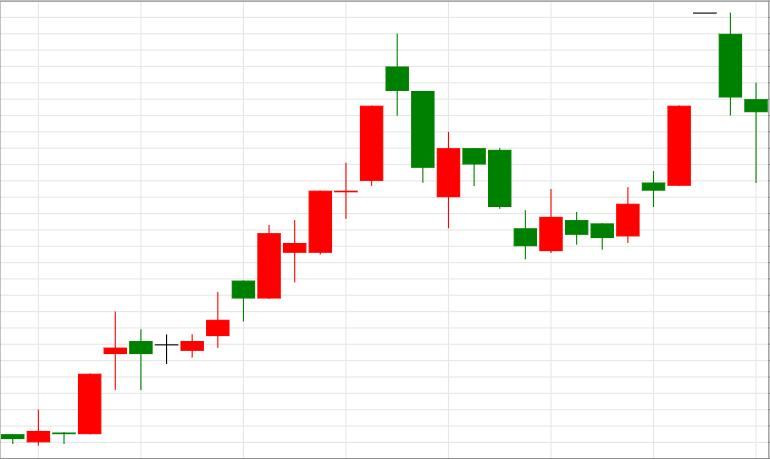evening_star_fall: (258, 32, 434, 299)
